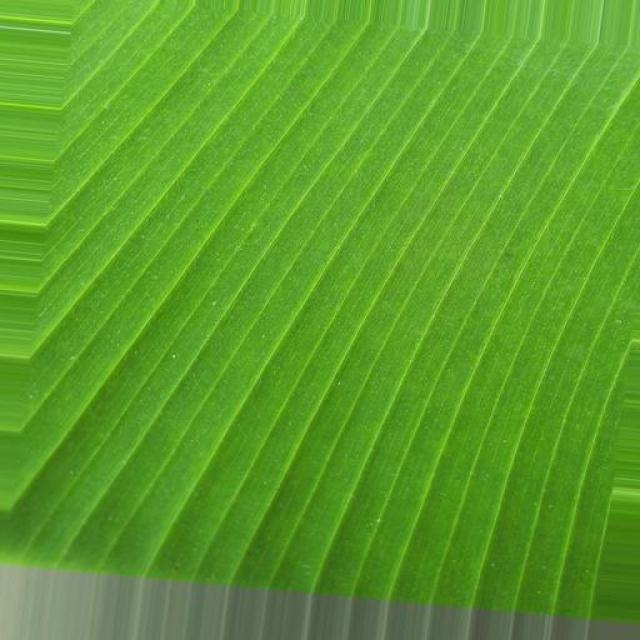Black_leaf_spot: (70, 0, 640, 586)
